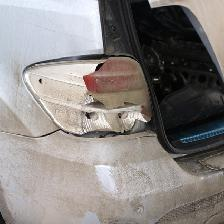broken_light: (21, 55, 154, 142)
